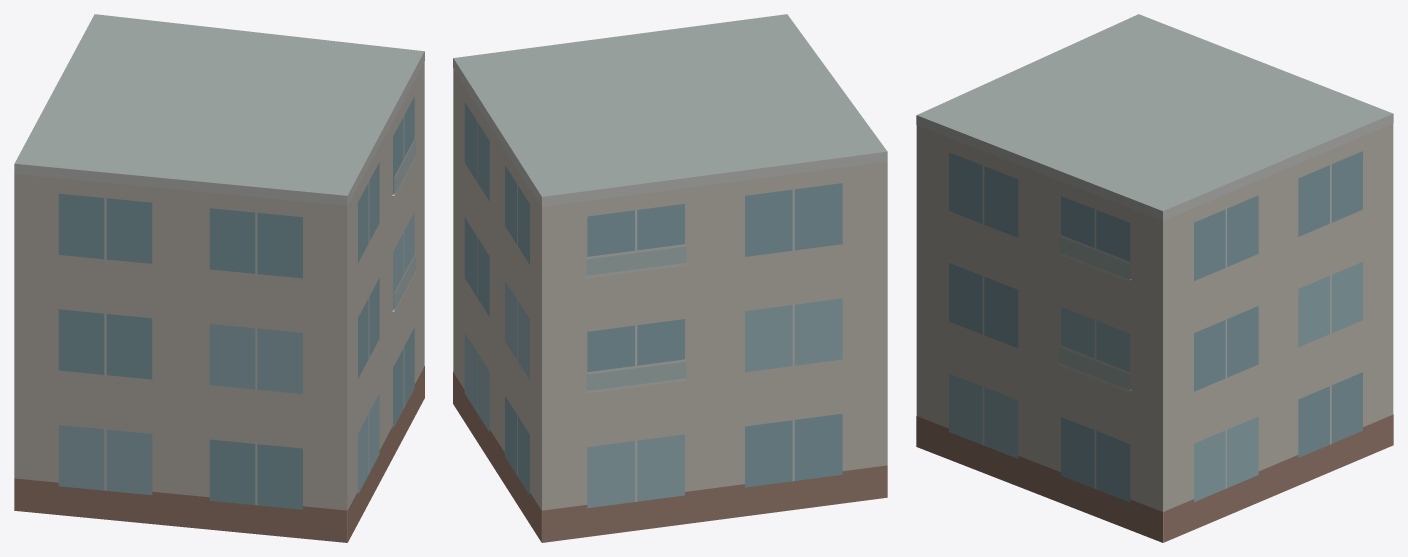
Rendered from survey-upis-32990660.glb.
3 views of the same model, side by side, from view 1: azimuth 30°, elevation 25°; view 2: azimuth 150°, elevation 25°; view 3: azimuth 270°, elevation 25° (orthographic). The views are drawn at different scales.
Visible parts, largest first — view 1: survey-upis-32990660.tmp; view 2: survey-upis-32990660.tmp; view 3: survey-upis-32990660.tmp.
Boxes of the visible parts, left/top/right/bottom form: survey-upis-32990660.tmp: left=14, top=14, right=424, bottom=542; survey-upis-32990660.tmp: left=453, top=14, right=887, bottom=542; survey-upis-32990660.tmp: left=916, top=14, right=1393, bottom=542.
Bounding box in the file's own units: 10.66 × 8.35 × 10.89.
